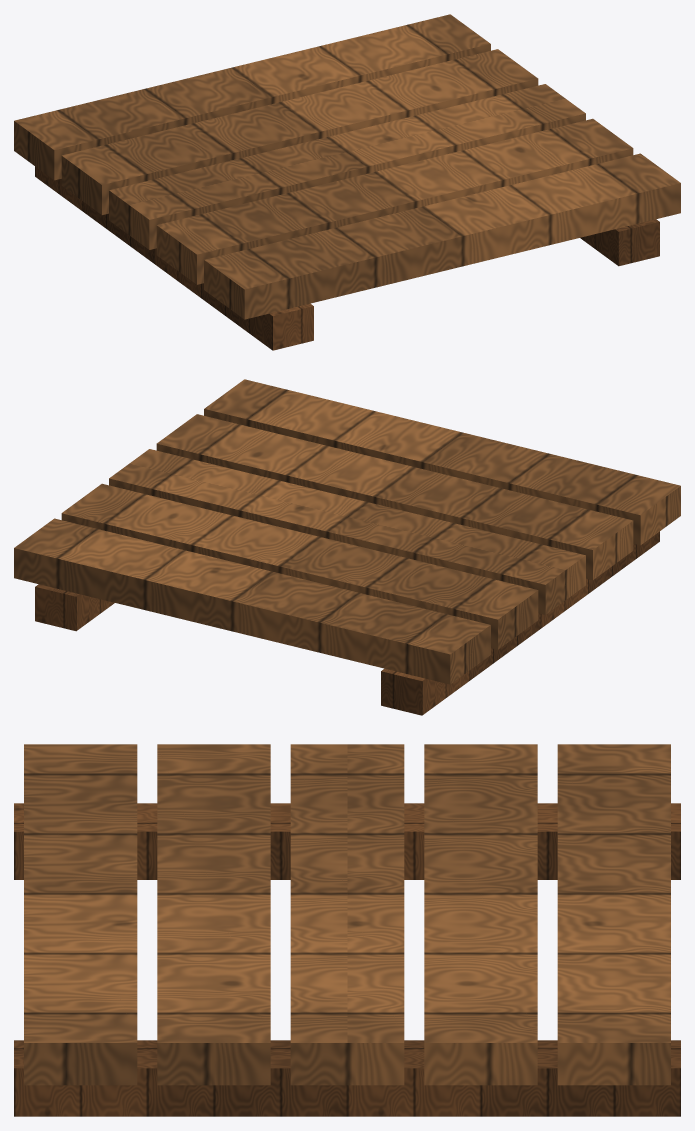
The model's file is bridge.glb.
The picture shows the model from 3 angles, top to bottom: view 1: azimuth 30°, elevation 25°; view 2: azimuth 150°, elevation 25°; view 3: azimuth 270°, elevation 25°; orthographic projection. The views are drawn at different scales.
Parts seen in each view (by area): view 1: bridge; view 2: bridge; view 3: bridge.
Part boxes in pixels (box(x1,y1,x2,y2)): bridge: box(14, 14, 680, 350); bridge: box(14, 379, 680, 715); bridge: box(14, 744, 680, 1116).
Size of the model in its own units: 1.06 by 0.15 by 1.
Materials: 2 (2 with a texture image).
